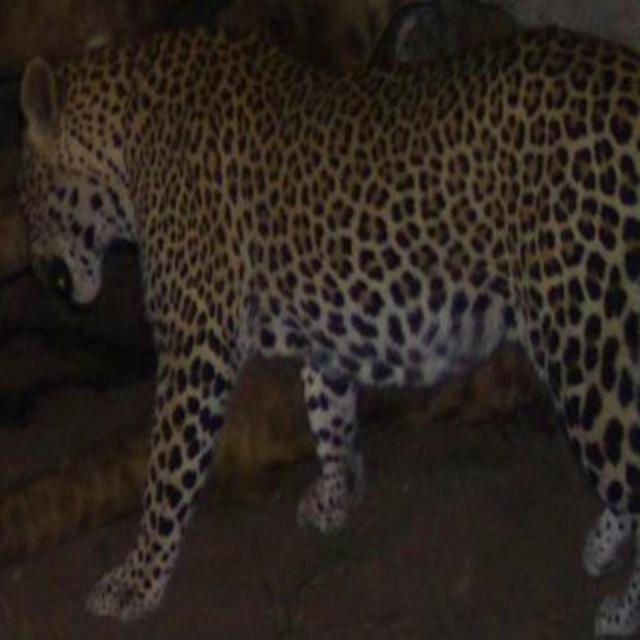Leopard: (0, 1, 640, 614)
